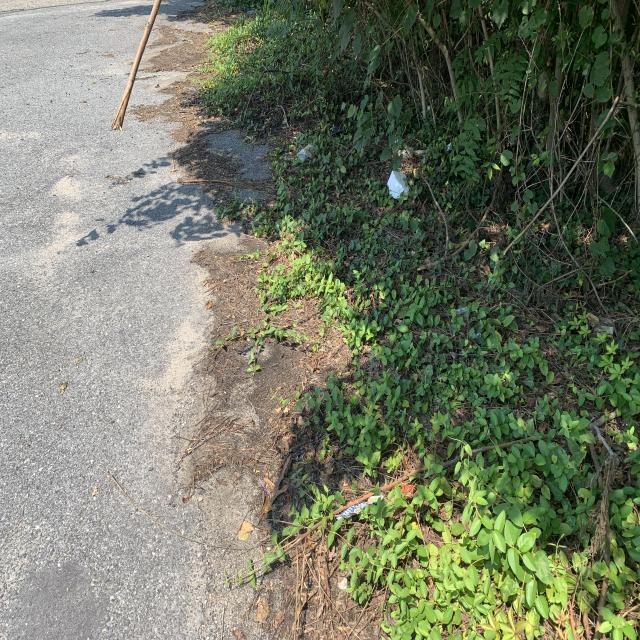Plastic: (334, 491, 389, 522), (292, 141, 316, 167), (439, 304, 472, 321)
Trash -everything else-: (384, 170, 411, 198)
